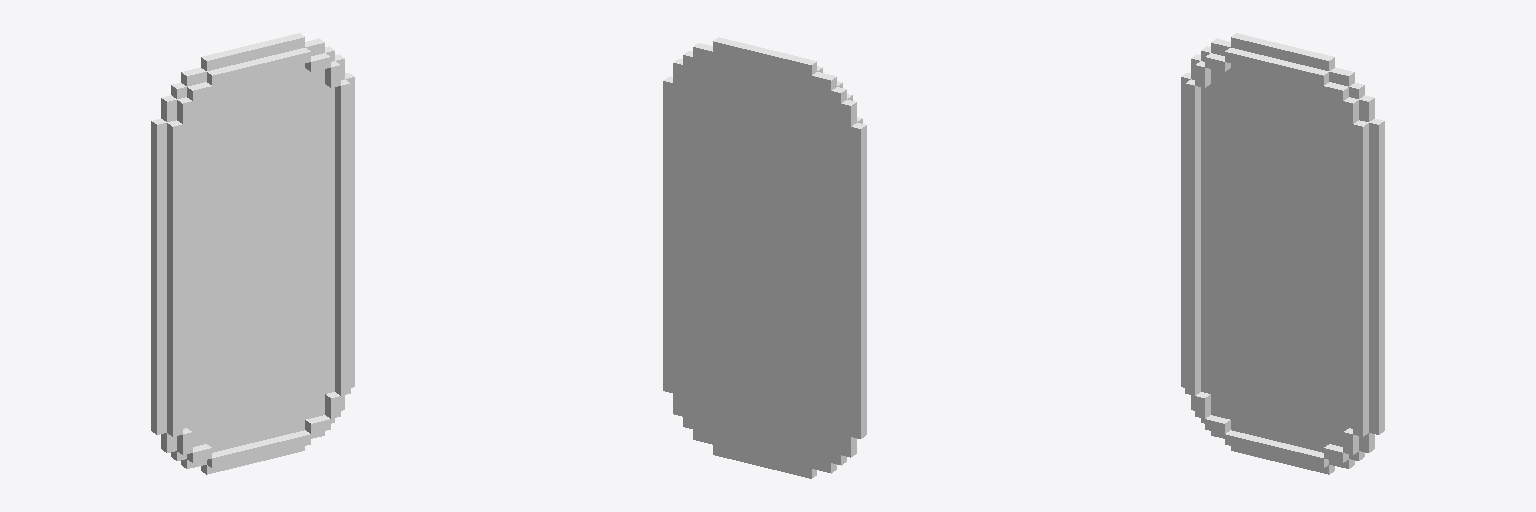
The model's file is LongMirror.obj.
The picture shows the model from 3 angles: view 1: azimuth 30°, elevation 25°; view 2: azimuth 150°, elevation 25°; view 3: azimuth 330°, elevation 25°; orthographic projection.
Parts seen in each view (by area): view 1: object 1; view 2: object 1; view 3: object 1.
Boxes of the visible parts, <box> form: object 1: <box>151,33,354,474</box>; object 1: <box>663,37,866,478</box>; object 1: <box>1181,33,1384,474</box>.
Bounding box in the file's own units: 2 × 4 × 0.2.